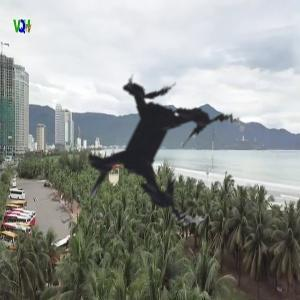drone: (25, 12, 294, 281)
